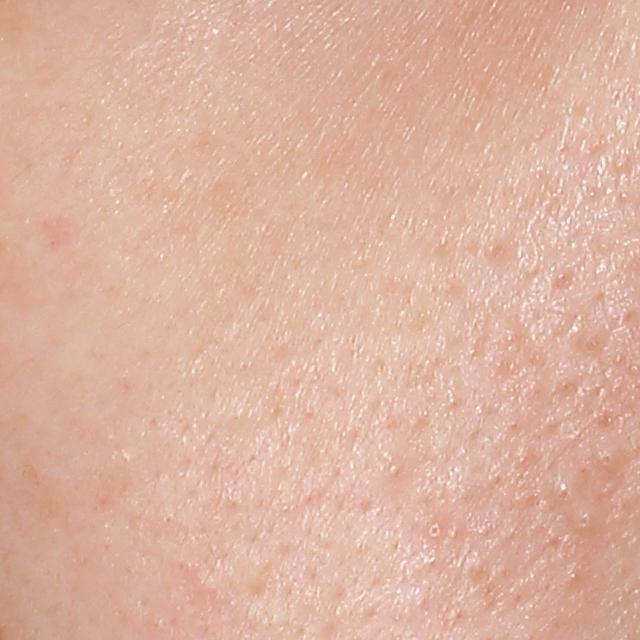comedo: (550, 470, 580, 506), (591, 442, 626, 472), (571, 504, 598, 536), (421, 512, 447, 543)
